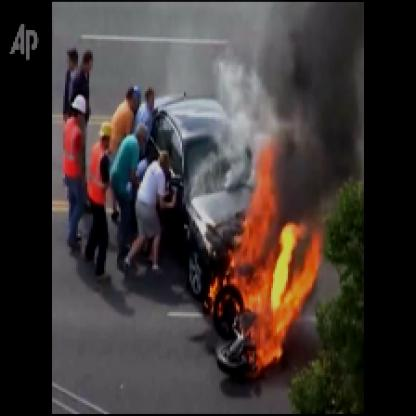Fire: (204, 138, 325, 375)
Smoke: (244, 2, 360, 213)
